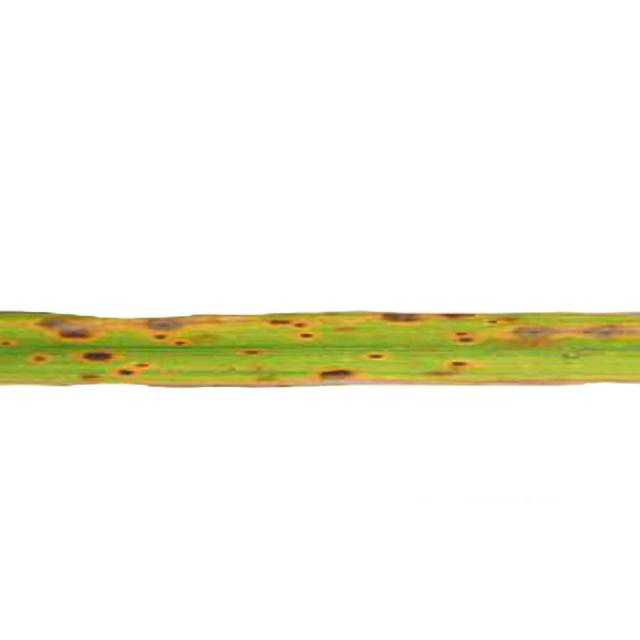Brown_Spot: (36, 315, 89, 332), (511, 324, 555, 342), (584, 322, 628, 340), (149, 318, 181, 330), (382, 312, 419, 321), (321, 369, 354, 379), (84, 351, 111, 360), (60, 330, 90, 338), (441, 312, 475, 319), (454, 331, 475, 342), (366, 354, 384, 360), (135, 361, 149, 368), (452, 361, 468, 367), (119, 369, 134, 375), (300, 332, 314, 338), (270, 320, 289, 324), (244, 350, 259, 355), (34, 355, 46, 361), (294, 322, 306, 328), (154, 334, 166, 339), (175, 341, 184, 345)
